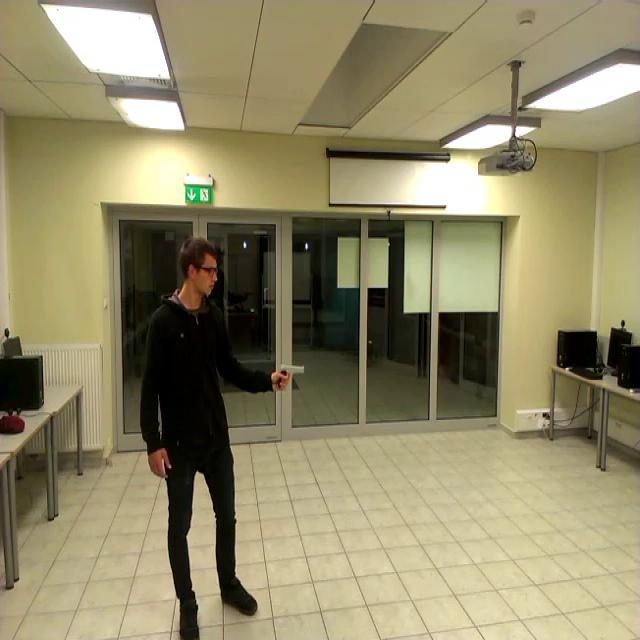Gun: (278, 362, 306, 389)
